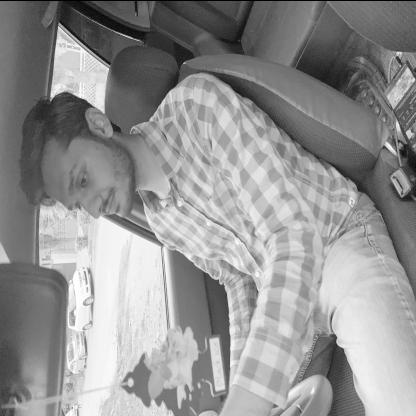no_seatbelt: (27, 132, 318, 266)
